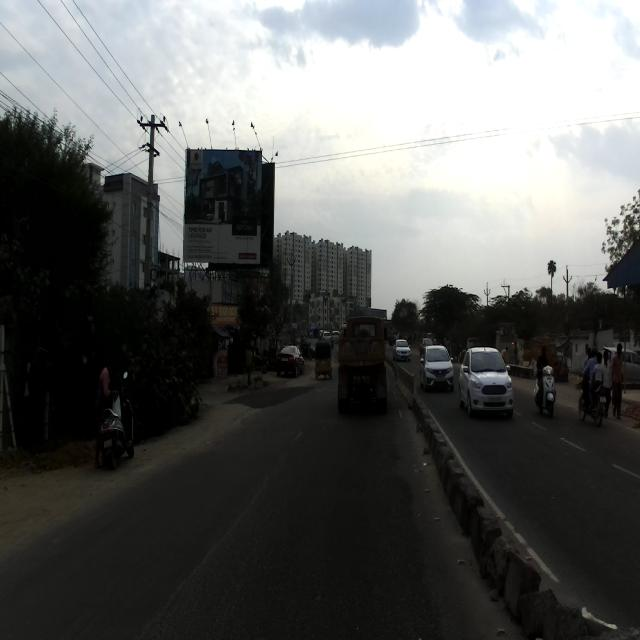car ahead at: (458, 334, 514, 426)
truck ahead at: (332, 297, 389, 426)
